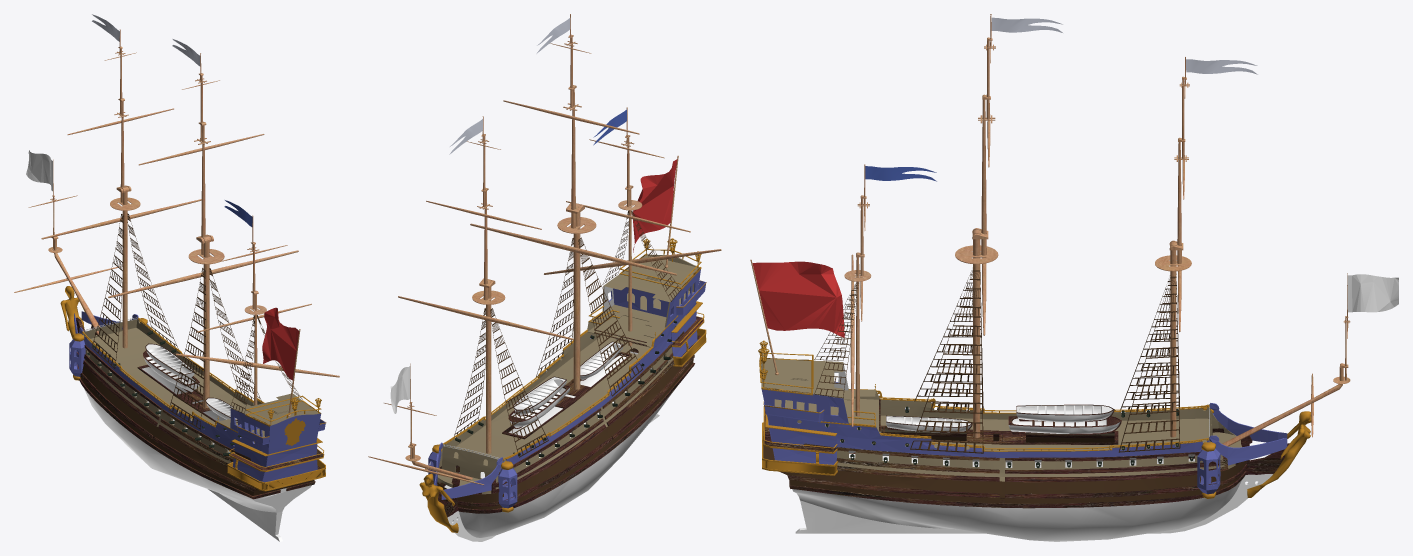
Rendered from Siren.FBX.
The picture shows the model from 3 angles, left to right: view 1: azimuth 30°, elevation 25°; view 2: azimuth 150°, elevation 25°; view 3: azimuth 270°, elevation 25°; orthographic projection. The views are drawn at different scales.
Parts seen in each view (by area): view 1: sireescc; view 2: sireescc; view 3: sireescc.
Part boxes in pixels (left/top/right/bottom): sireescc: left=14, top=14, right=339, bottom=541; sireescc: left=368, top=14, right=721, bottom=541; sireescc: left=750, top=14, right=1398, bottom=541.
Bounding box in the file's own units: 9728 × 20938 × 23729.
Materials: 20 (3 with a texture image).
